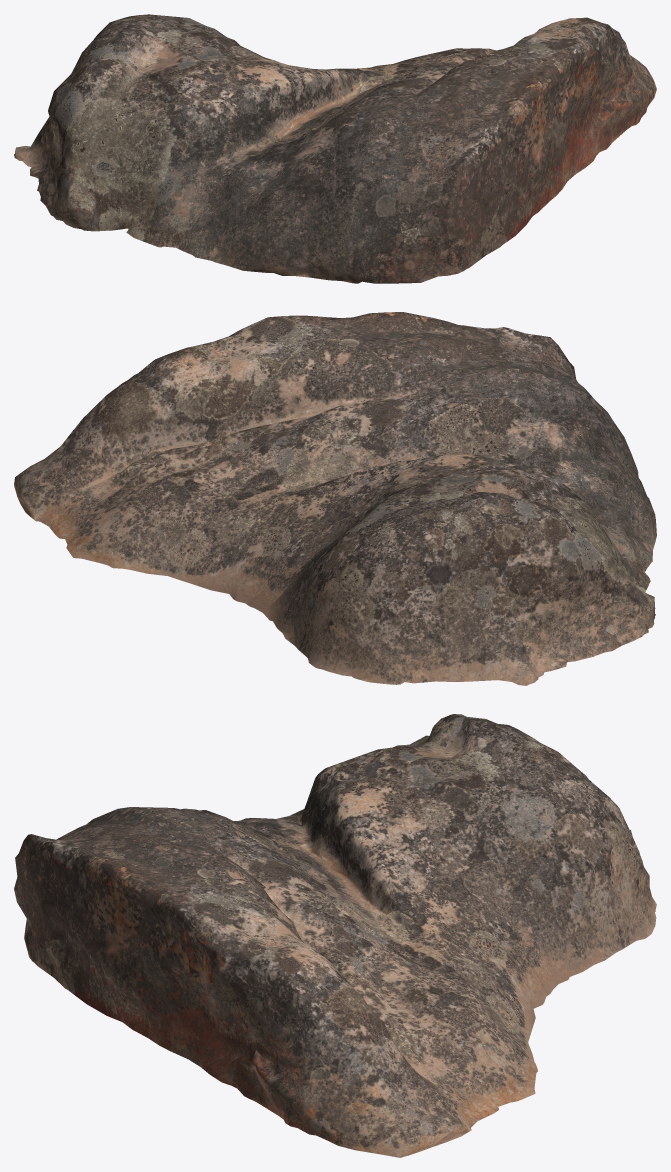
Rendered from SM_yewicin_tier_2.gltf.
3 renders of one model, top to bottom at view 1: azimuth 30°, elevation 25°; view 2: azimuth 150°, elevation 25°; view 3: azimuth 270°, elevation 25°, orthographic. The views are drawn at different scales.
Parts seen in each view (by area): view 1: yewicin_LOD2_TIER2_000; view 2: yewicin_LOD2_TIER2_000; view 3: yewicin_LOD2_TIER2_000.
Boxes of the visible parts, x1=… form: yewicin_LOD2_TIER2_000: x1=14, y1=14, x2=656, y2=283; yewicin_LOD2_TIER2_000: x1=14, y1=312, x2=656, y2=685; yewicin_LOD2_TIER2_000: x1=14, y1=714, x2=656, y2=1157.
Size of the model in its own units: 0.8867 by 0.1917 by 0.7072.
1 material, 1 textured.
